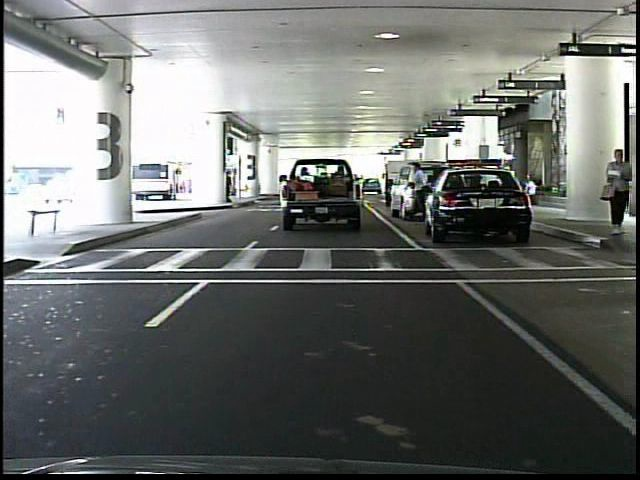person: (600, 146, 632, 239), (411, 159, 429, 225)
